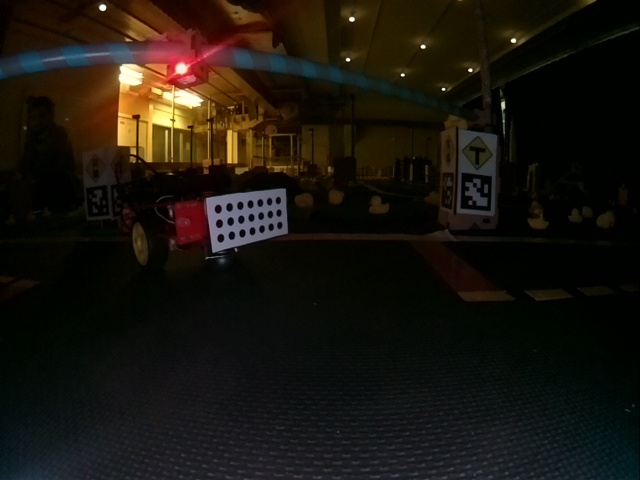Duckie: (528, 212, 547, 229), (371, 196, 387, 214), (327, 189, 345, 204), (597, 216, 612, 225)
Duckiebot: (122, 170, 288, 263)
Intersection sign: (461, 135, 496, 166)
QR code: (460, 172, 494, 210), (86, 185, 111, 217), (438, 173, 456, 210)
Signal sign: (83, 152, 107, 181), (440, 135, 456, 167)
Traffic light: (166, 31, 201, 82)
